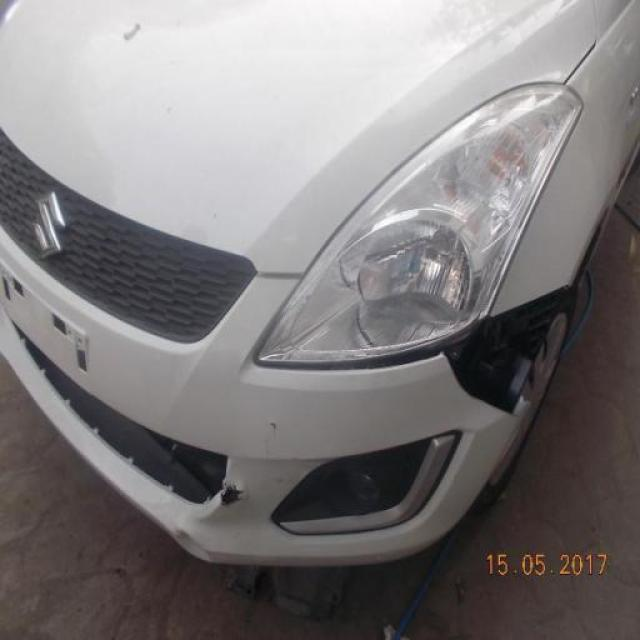crack: (220, 482, 240, 509)
dent: (174, 525, 210, 565)
missing: (307, 278, 564, 426)
scratch: (122, 16, 143, 48), (263, 418, 279, 459)
